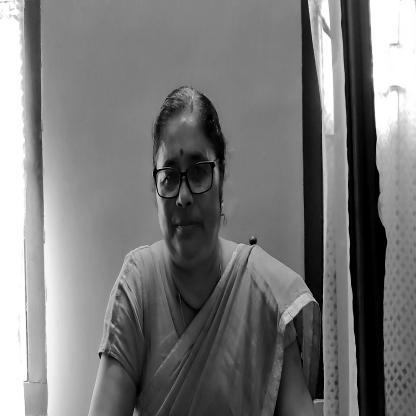Normal: (152, 96, 225, 266)
